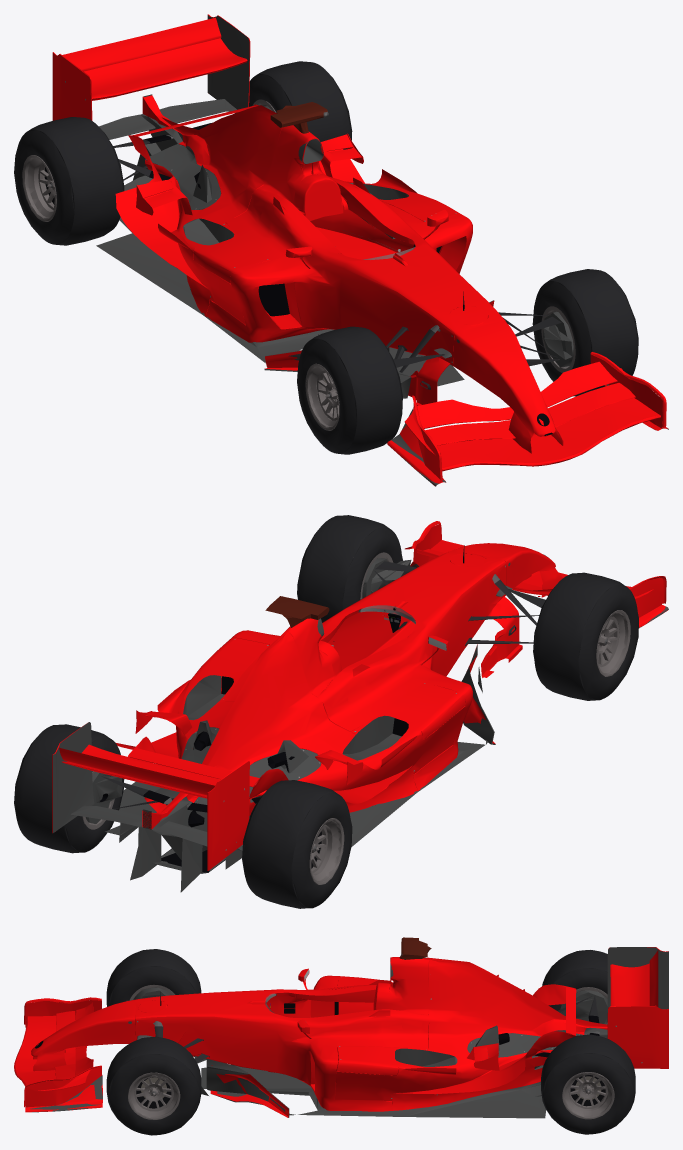
File: f1-05-mclaren.obj
3 renders of one model, top to bottom at view 1: azimuth 30°, elevation 25°; view 2: azimuth 150°, elevation 25°; view 3: azimuth 270°, elevation 25°, orthographic. The views are drawn at different scales.
Visible parts, largest first — view 1: BODY, WHEEL_RR, WHEEL_RF, WHEEL_LF, WHEEL_LR, GLASS; view 2: BODY, WHEEL_RR, WHEEL_RF, WHEEL_LF, WHEEL_LR, GLASS; view 3: BODY, WHEEL_LR, WHEEL_LF, WHEEL_RF, WHEEL_RR, GLASS.
Part boxes in pixels (x1=…): BODY: x1=43, y1=14, x2=668, y2=486; WHEEL_RR: x1=14, y1=117, x2=124, y2=245; WHEEL_RF: x1=297, y1=326, x2=402, y2=454; WHEEL_LF: x1=532, y1=269, x2=638, y2=396; WHEEL_LR: x1=249, y1=61, x2=352, y2=149; GLASS: x1=258, y1=112, x2=552, y2=435; BODY: x1=52, y1=521, x2=668, y2=892; WHEEL_RR: x1=242, y1=780, x2=352, y2=908; WHEEL_RF: x1=533, y1=572, x2=638, y2=700; WHEEL_LF: x1=297, y1=515, x2=402, y2=622; WHEEL_LR: x1=14, y1=724, x2=124, y2=853; GLASS: x1=161, y1=554, x2=546, y2=873; BODY: x1=14, y1=937, x2=668, y2=1118; WHEEL_LR: x1=541, y1=1034, x2=635, y2=1134; WHEEL_LF: x1=106, y1=1036, x2=201, y2=1135; WHEEL_RF: x1=106, y1=949, x2=201, y2=1006; WHEEL_RR: x1=542, y1=950, x2=607, y2=1024; GLASS: x1=35, y1=954, x2=402, y2=1048.
Bounding box in the file's own units: 1.84 × 1.09 × 4.65.
